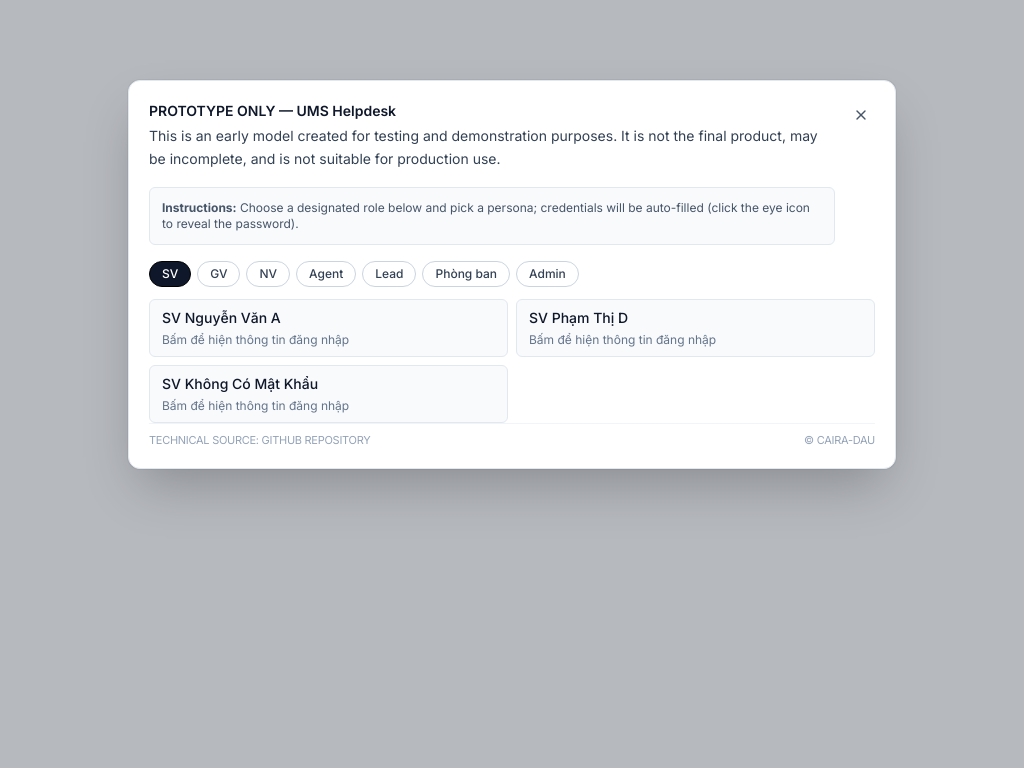
CredentialHelperNote — admin-created personas surface (FE-S15) › M31-FE-S15-S7: clicking a created persona reveals email + a "type your own password" hint (no password leak)
Click the button with aria-label "Chọn persona SV Không Có Mật Khẩu" at (240, 383), box [149,364,508,422]
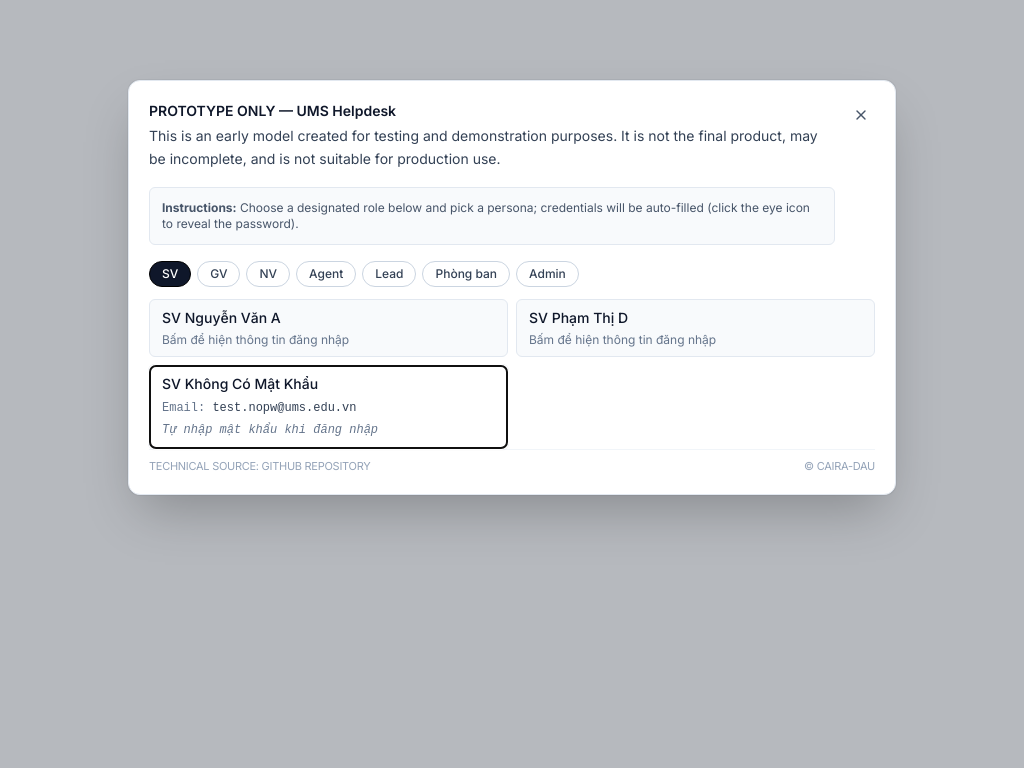
expect the text "test.nopw@ums.edu.vn" is shown: met, box [212,400,356,414]
expect the text "Tự nhập mật khẩu khi đăng nhập" is shown: met, box [162,420,378,440]
